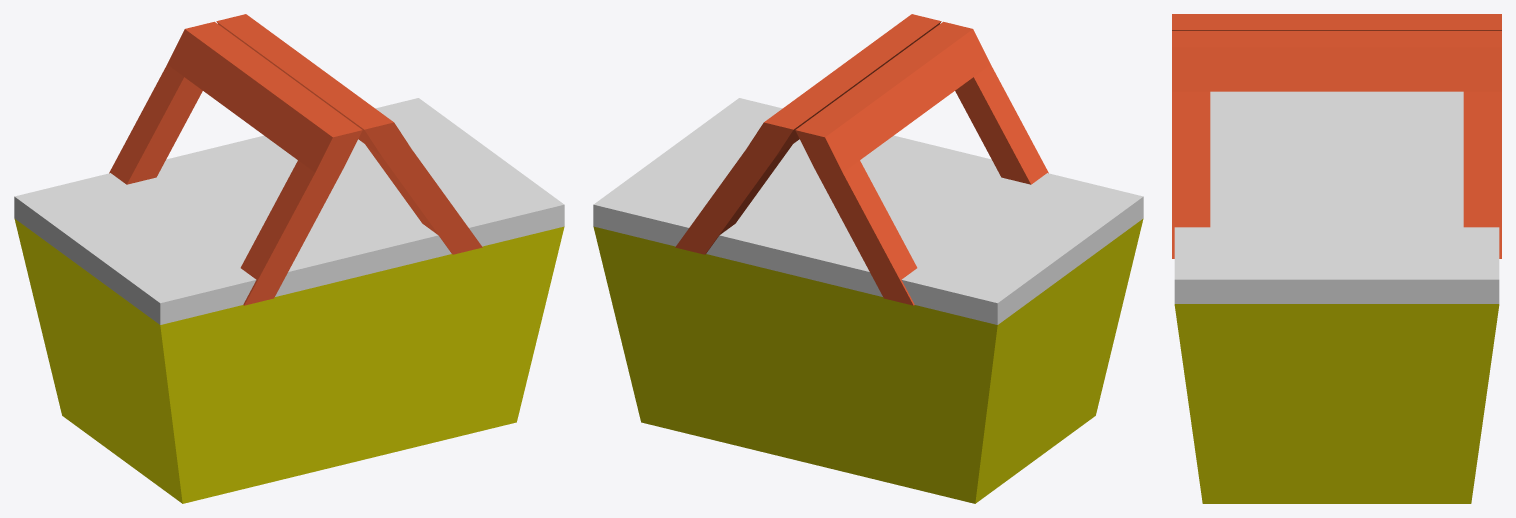
File: Basket.fbx
3 views of the same model, side by side, from view 1: azimuth 30°, elevation 25°; view 2: azimuth 150°, elevation 25°; view 3: azimuth 270°, elevation 25° (orthographic). The views are drawn at different scales.
Visible parts, largest first — view 1: Basket; view 2: Basket; view 3: Basket.
Part boxes in pixels (<box>): Basket: <box>14,14,564,503</box>; Basket: <box>593,14,1143,503</box>; Basket: <box>1172,14,1501,503</box>.
Bounding box in the file's own units: 136 × 110 × 86.
